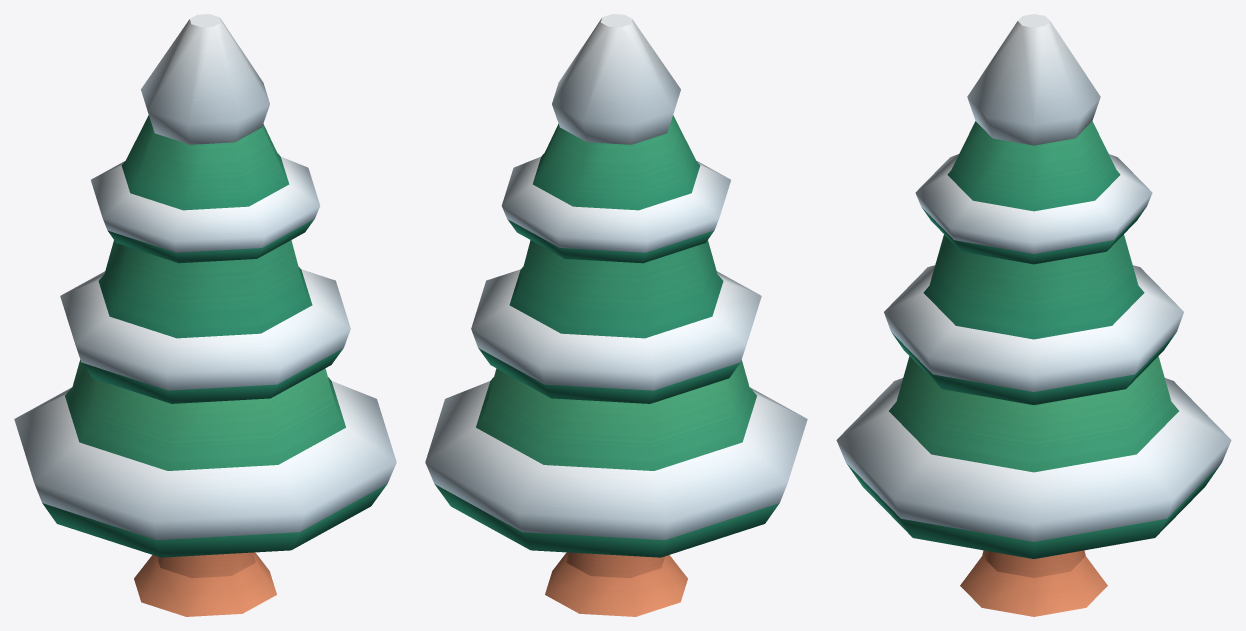
File: pine_1.fbx
3 renders of one model, left to right at view 1: azimuth 30°, elevation 25°; view 2: azimuth 150°, elevation 25°; view 3: azimuth 270°, elevation 25°, orthographic.
Parts seen in each view (by area): view 1: pine_1; view 2: pine_1; view 3: pine_1.
Part boxes in pixels (left/top/right/bottom): pine_1: left=14, top=14, right=396, bottom=616; pine_1: left=425, top=14, right=807, bottom=616; pine_1: left=836, top=14, right=1231, bottom=616.
Bounding box in the file's own units: 1.25 × 1.97 × 1.25.
Materials: 1 (1 with a texture image).
